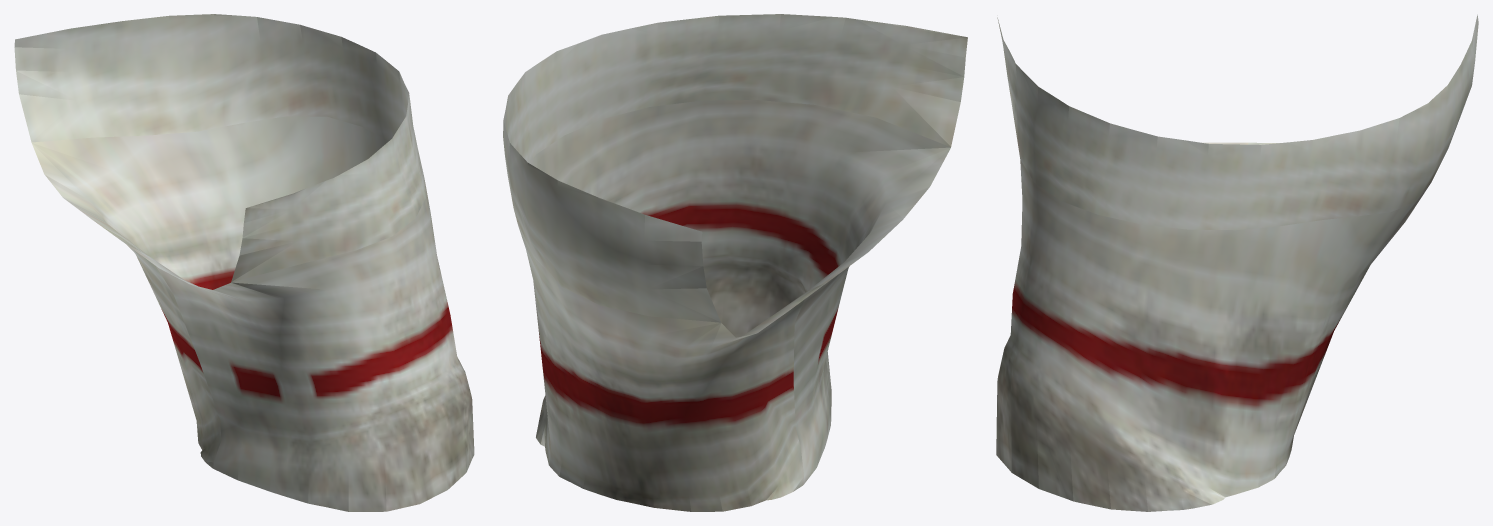
The model's file is Rleg.obj.
The picture shows the model from 3 angles, left to right: view 1: azimuth 30°, elevation 25°; view 2: azimuth 150°, elevation 25°; view 3: azimuth 270°, elevation 25°; orthographic projection. The views are drawn at different scales.
Parts seen in each view (by area): view 1: polySurface15 polySurface14 polySurface12 polySurface9 polySurfa; view 2: polySurface15 polySurface14 polySurface12 polySurface9 polySurfa; view 3: polySurface15 polySurface14 polySurface12 polySurface9 polySurfa.
Part boxes in pixels (left/top/right/bottom): polySurface15 polySurface14 polySurface12 polySurface9 polySurfa: left=14, top=14, right=474, bottom=511; polySurface15 polySurface14 polySurface12 polySurface9 polySurfa: left=503, top=14, right=967, bottom=511; polySurface15 polySurface14 polySurface12 polySurface9 polySurfa: left=996, top=14, right=1478, bottom=511.
Size of the model in its own units: 0.6169 by 0.6965 by 0.8641.
1 material, 1 textured.
